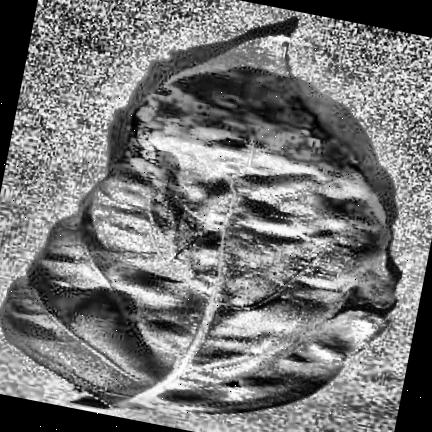leaf: (1, 34, 400, 412)
